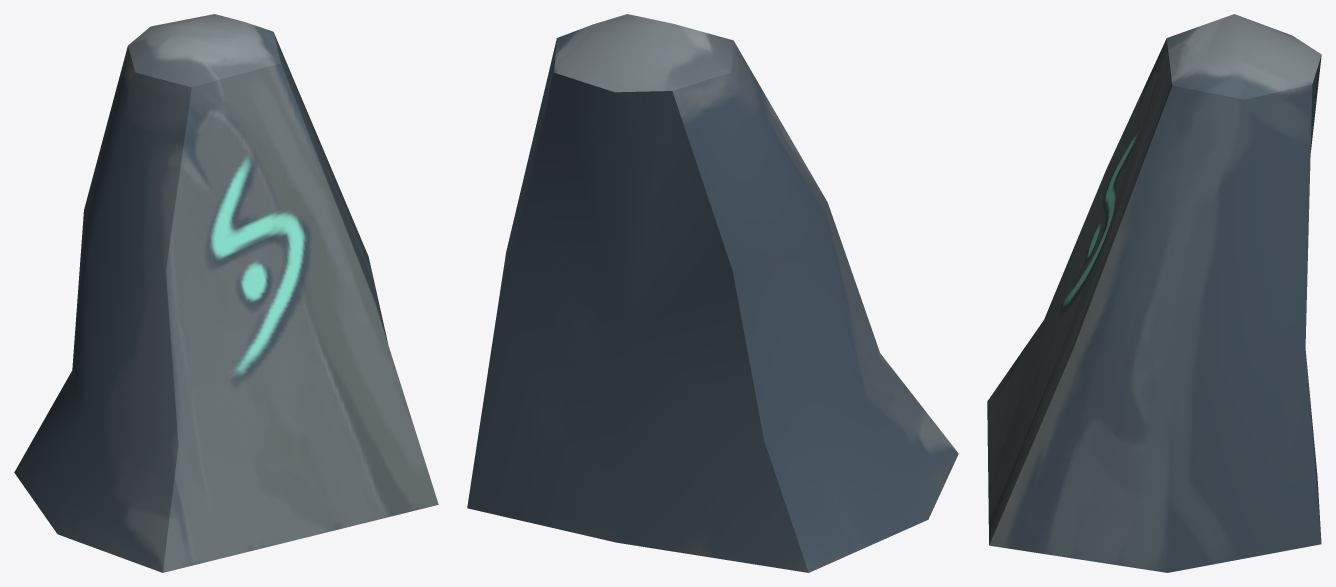
The model's file is yewai_shitou_05.FBX.
The picture shows the model from 3 angles, left to right: view 1: azimuth 30°, elevation 25°; view 2: azimuth 150°, elevation 25°; view 3: azimuth 270°, elevation 25°; orthographic projection. The views are drawn at different scales.
Parts seen in each view (by area): view 1: yewai_shitou_05; view 2: yewai_shitou_05; view 3: yewai_shitou_05.
Part boxes in pixels (bbox=[...]): yewai_shitou_05: bbox=[14, 14, 438, 572]; yewai_shitou_05: bbox=[467, 14, 958, 572]; yewai_shitou_05: bbox=[987, 14, 1321, 572].
Size of the model in its own units: 133 by 148 by 98.33.
